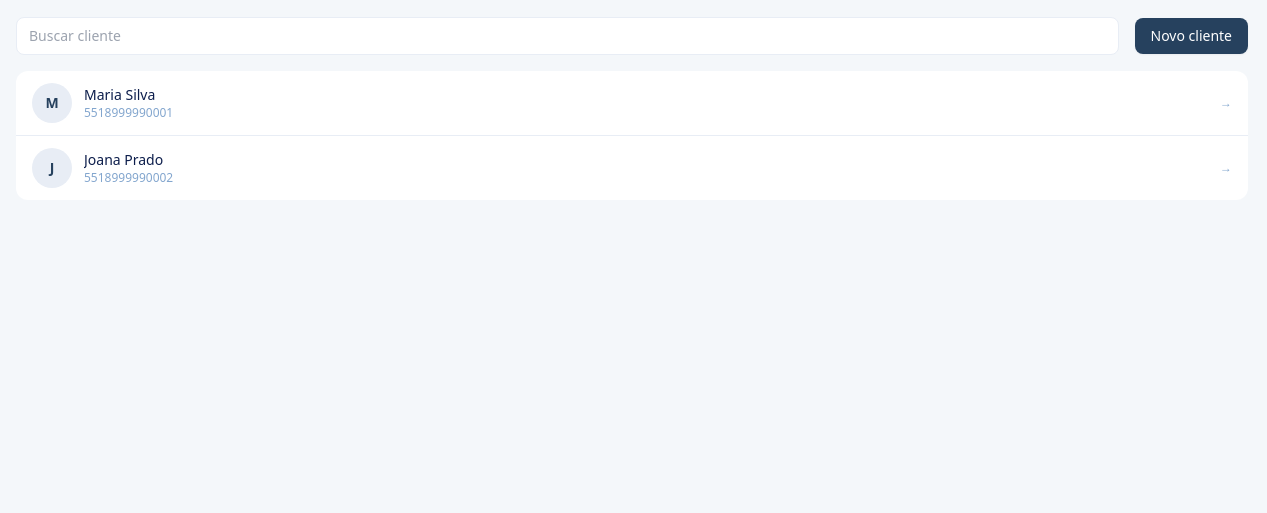
Test: ClientesPage — criação › não cria sem nome ou sem whatsapp e avisa obrigatório
Click the button "Novo cliente". click: (1191, 36)
box: [1134, 18, 1248, 54]
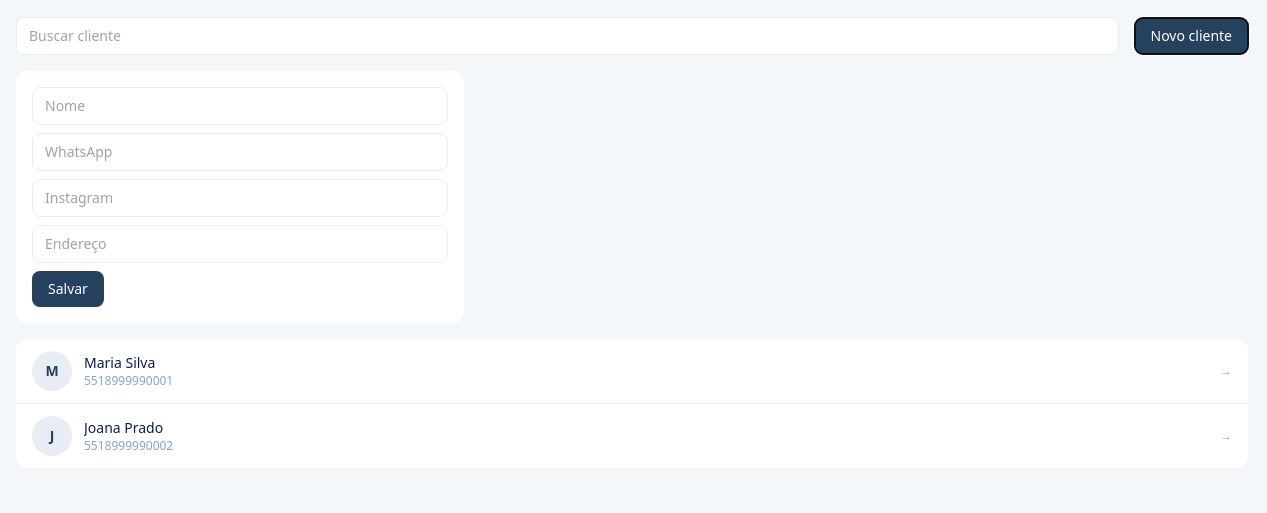
Type "@x" into the field with placeholder "Instagram". click: (240, 198)
box: [32, 179, 448, 217]
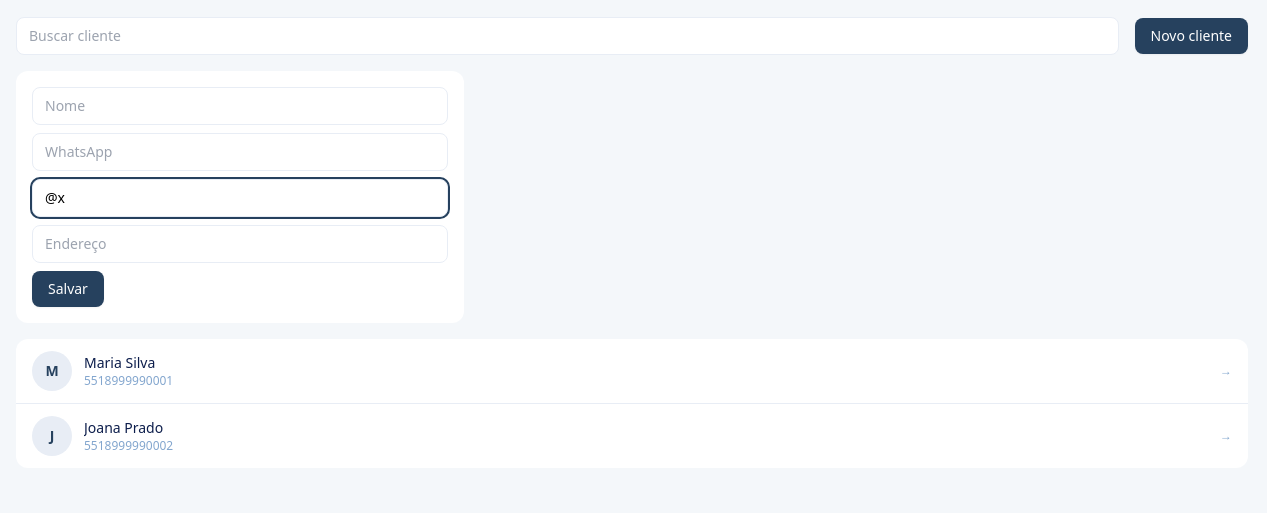
Click the button "Salvar". click: (68, 289)
box: [32, 271, 104, 307]
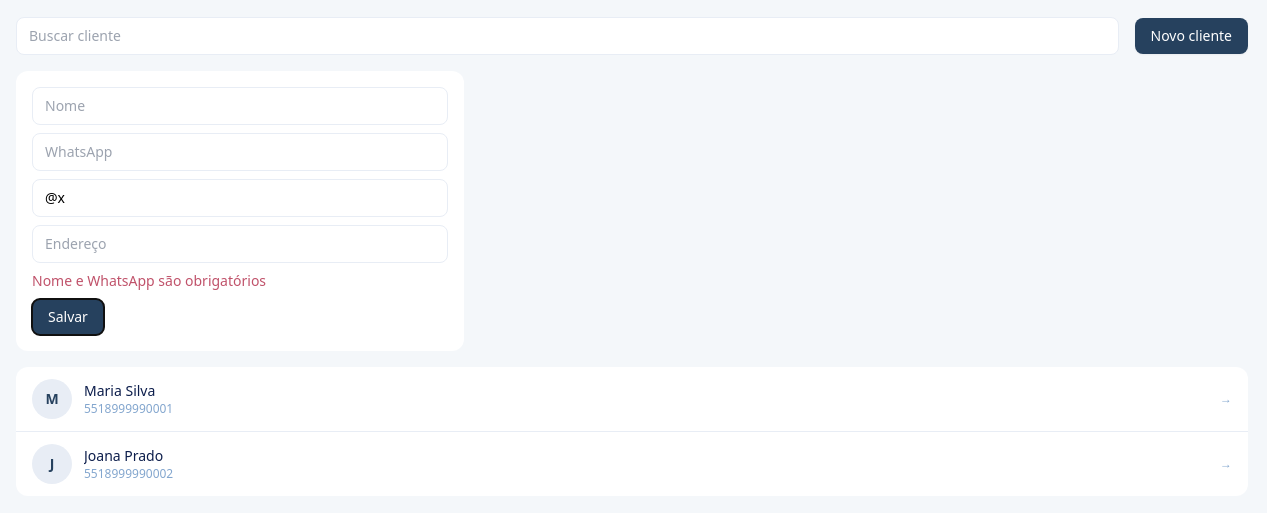
Expected: the text "Nome e WhatsApp são obrigatórios" is shown, [32, 271, 266, 290]
